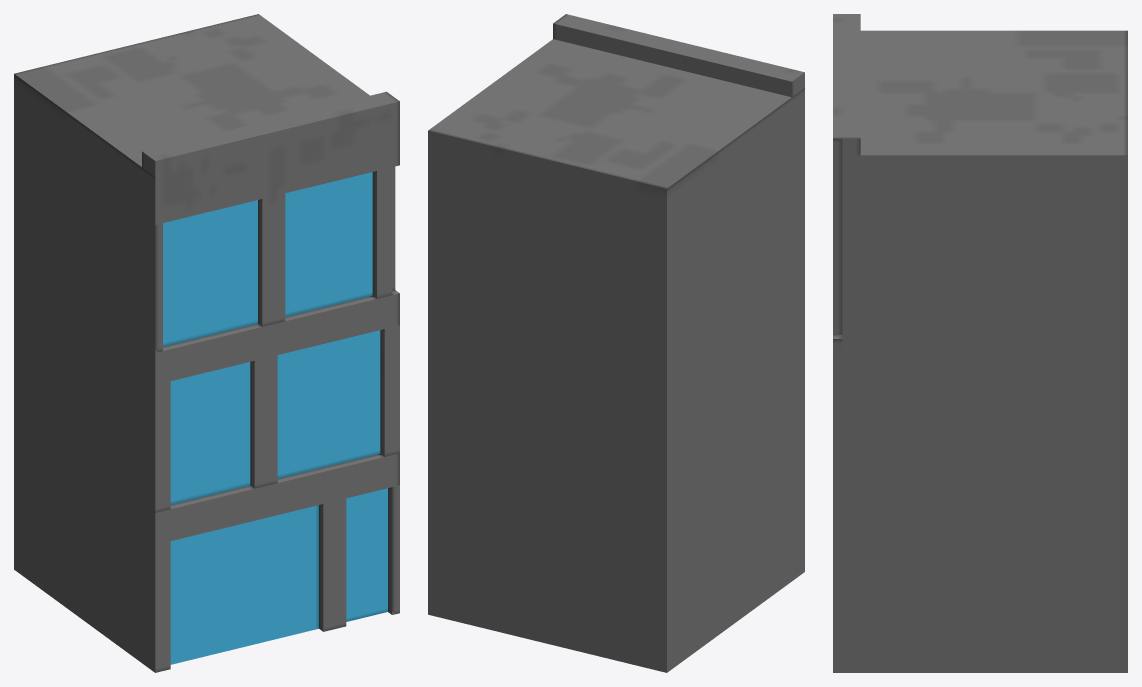
File: B_SR_PRZ_TYL_GÓRA.dae
3 views of the same model, side by side, from view 1: azimuth 30°, elevation 25°; view 2: azimuth 150°, elevation 25°; view 3: azimuth 270°, elevation 25° (orthographic). The views are drawn at different scales.
Visible parts, largest first — view 1: Content; view 2: Content; view 3: Content.
Part boxes in pixels (box(x1,y1,x2,y2)): Content: box(14, 14, 399, 672); Content: box(428, 14, 804, 672); Content: box(833, 14, 1127, 672).
Bounding box in the file's own units: 32 × 64 × 32.
1 material, 1 textured.
